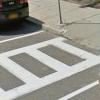Crosswalk: (2, 38, 90, 96)
